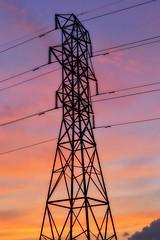power_tower: (42, 10, 119, 240)
